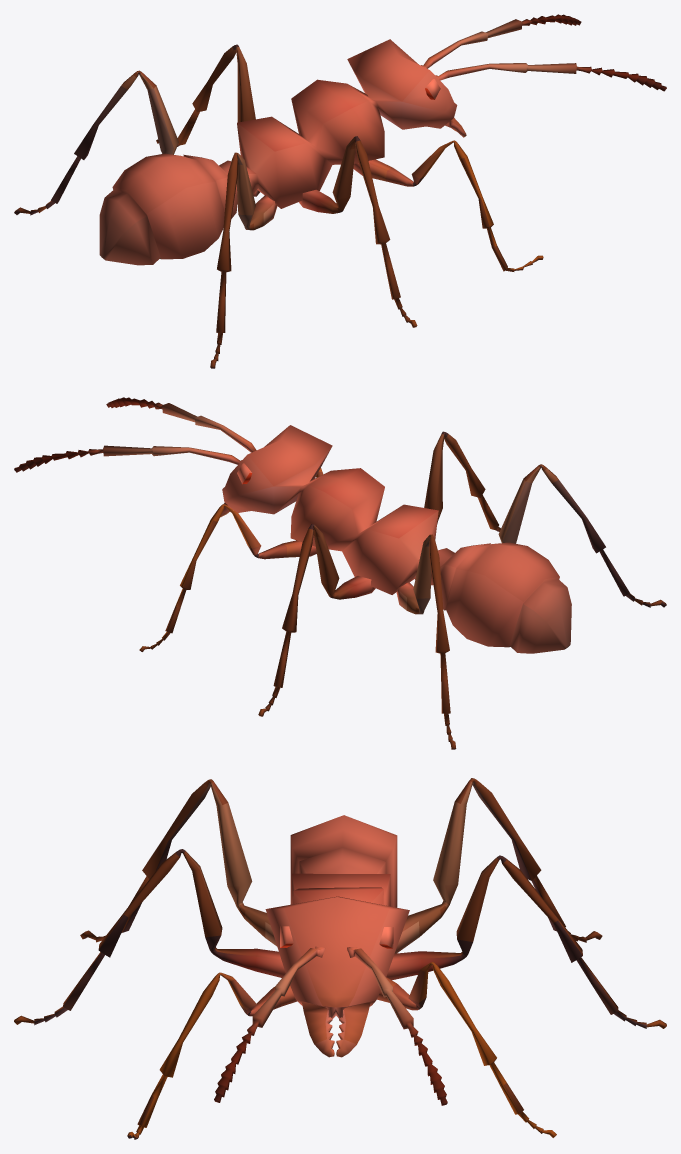
Rendered from ant.fbx.
The picture shows the model from 3 angles, top to bottom: view 1: azimuth 30°, elevation 25°; view 2: azimuth 150°, elevation 25°; view 3: azimuth 270°, elevation 25°; orthographic projection. The views are drawn at different scales.
Parts seen in each view (by area): view 1: ant; view 2: ant; view 3: ant.
Boxes of the visible parts, <box> form: ant: <box>14,14,666,368</box>; ant: <box>14,397,666,749</box>; ant: <box>14,778,666,1139</box>.
Bounding box in the file's own units: 7.36 × 2.33 × 6.35.
